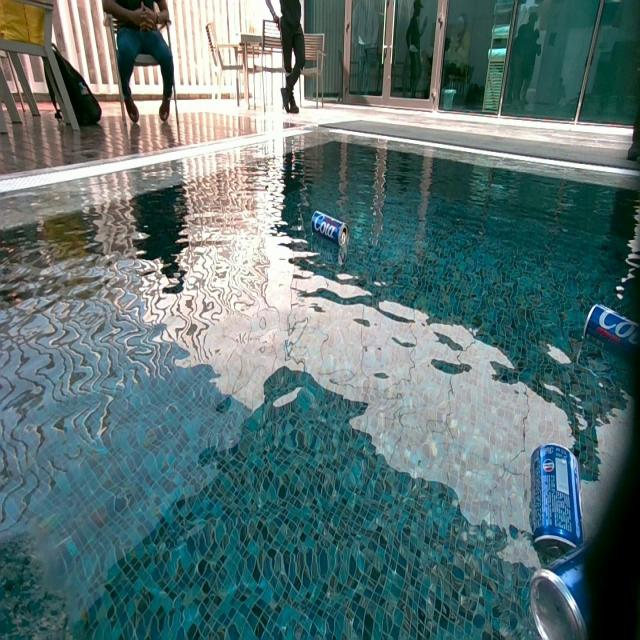Cans: (523, 441, 594, 551), (527, 546, 592, 640), (585, 306, 640, 366), (313, 212, 351, 249)
